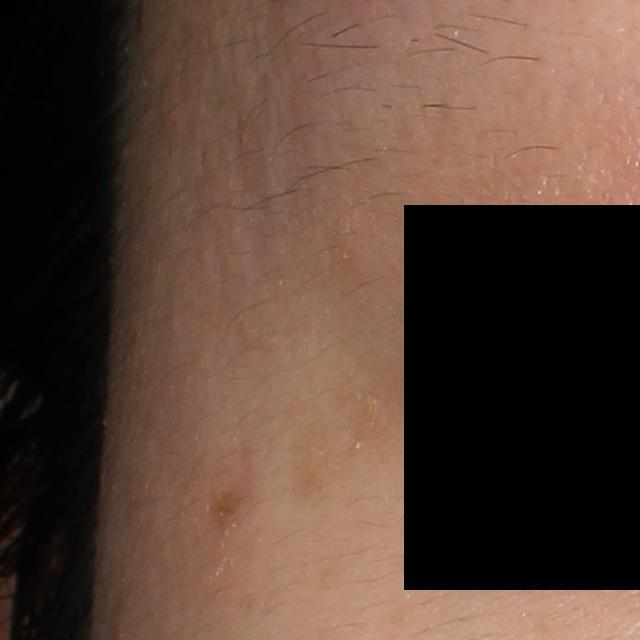melasma: (284, 373, 401, 514), (207, 477, 258, 540)
